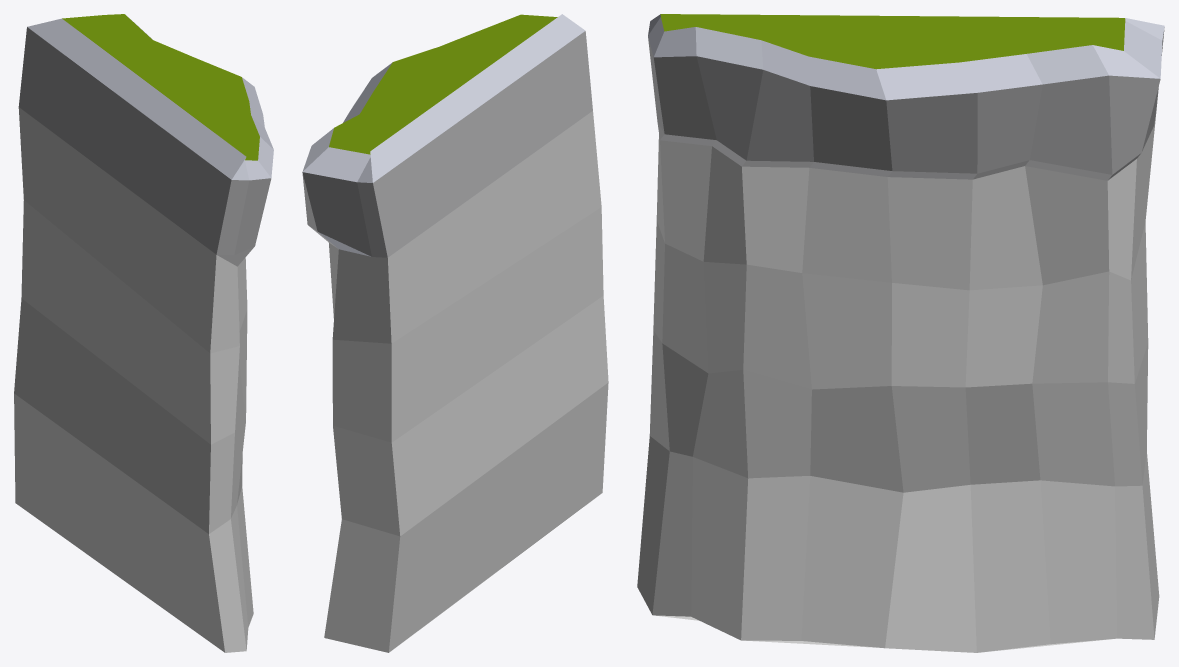
Rendered from Cliff1FlatShaded.fbx.
The picture shows the model from 3 angles, left to right: view 1: azimuth 30°, elevation 25°; view 2: azimuth 150°, elevation 25°; view 3: azimuth 270°, elevation 25°; orthographic projection. The views are drawn at different scales.
Visible parts, largest first — view 1: Plane.001, Plane.003, Plane.002; view 2: Plane.001, Plane.003, Plane.002; view 3: Plane.001, Plane.003, Plane.002.
Boxes of the visible parts, x1,y1,x2,y2 form: Plane.001: (14, 107, 253, 652); Plane.003: (18, 17, 273, 266); Plane.002: (62, 14, 259, 160); Plane.001: (318, 111, 608, 652); Plane.003: (302, 14, 592, 257); Plane.002: (329, 14, 557, 154); Plane.001: (637, 113, 1159, 652); Plane.003: (648, 14, 1164, 180); Plane.002: (660, 14, 1125, 69).
Bounding box in the file's own units: 599 × 1992 × 1569.
